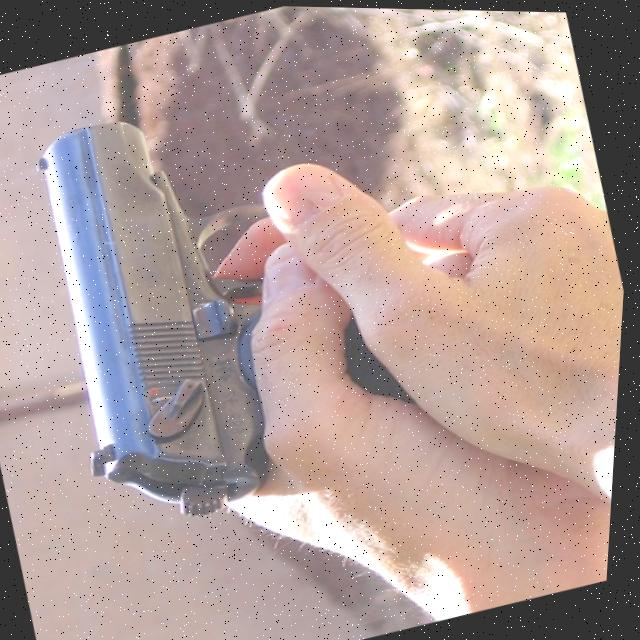pistol: (10, 81, 351, 543)
